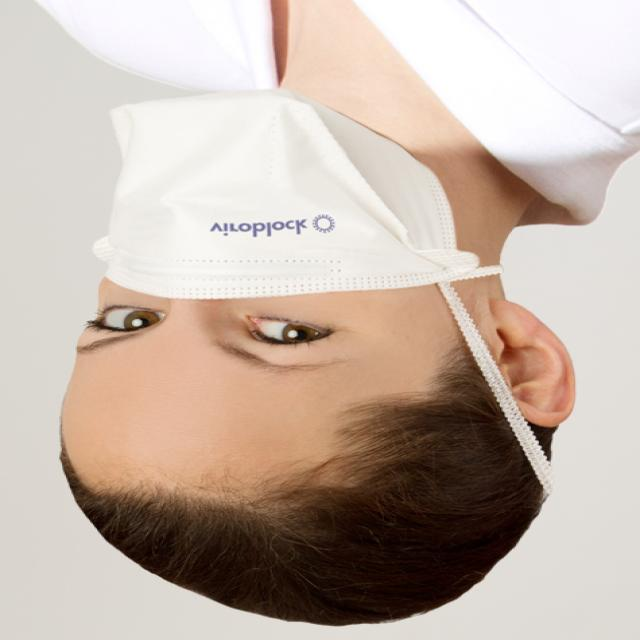Mask: (73, 76, 482, 332)
